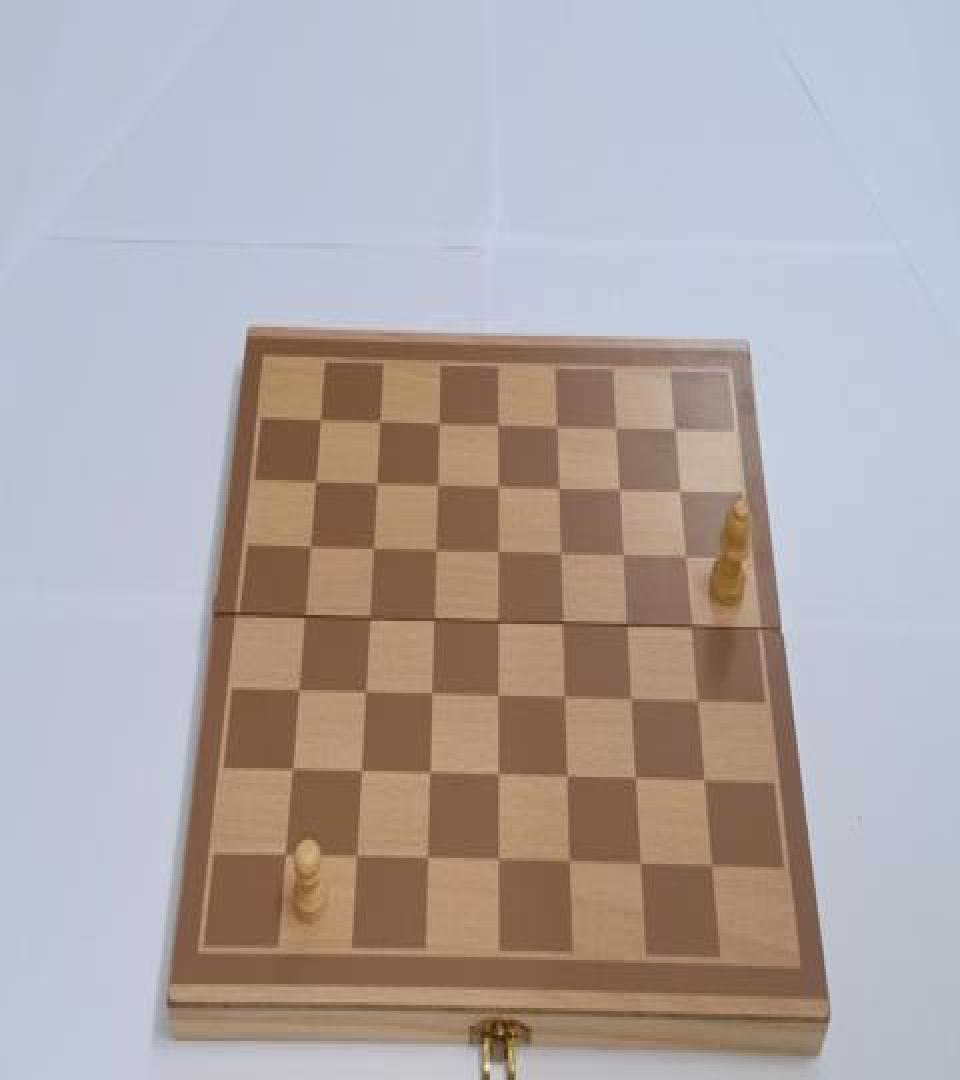xcorner: (428, 472, 446, 500), (488, 412, 506, 440), (488, 760, 506, 788), (547, 412, 565, 440), (313, 408, 331, 435), (307, 470, 325, 497), (302, 534, 320, 561), (296, 603, 314, 630), (290, 676, 308, 703), (283, 756, 301, 783), (275, 840, 293, 867), (368, 471, 386, 498), (360, 604, 378, 631), (356, 678, 374, 705), (430, 411, 448, 438), (426, 537, 444, 564), (424, 606, 442, 633), (422, 681, 440, 708), (420, 759, 438, 786), (417, 843, 435, 870), (488, 474, 506, 501), (488, 538, 506, 565), (488, 683, 506, 710), (488, 846, 506, 873), (549, 474, 567, 501), (551, 540, 569, 567), (553, 609, 571, 636), (555, 684, 573, 711), (606, 414, 624, 441), (618, 610, 636, 637), (627, 765, 645, 792), (631, 851, 649, 878), (666, 415, 684, 442), (671, 477, 689, 504), (677, 543, 695, 570), (683, 612, 701, 639), (689, 687, 707, 714), (696, 766, 714, 793), (703, 852, 721, 879), (371, 410, 389, 436), (364, 536, 382, 562), (351, 758, 369, 784), (346, 842, 364, 868), (488, 608, 506, 634), (557, 764, 575, 790), (560, 848, 578, 874), (610, 476, 628, 502), (614, 542, 632, 568), (622, 686, 640, 712)
